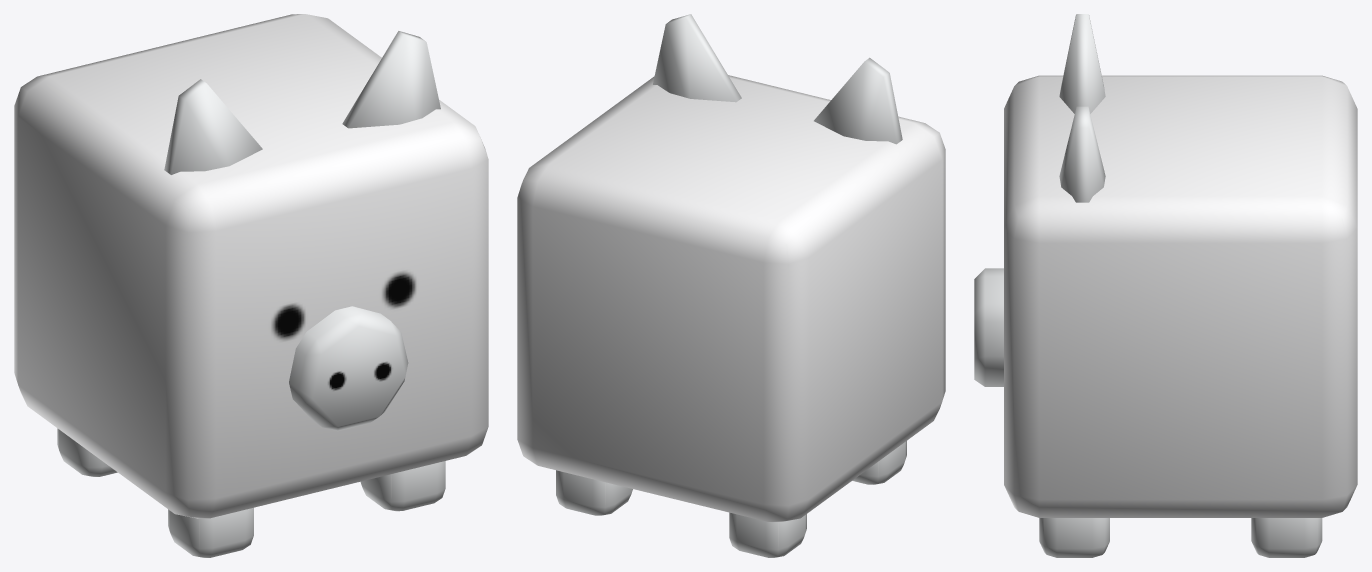
Rendered from pig.fbx.
3 views of the same model, side by side, from view 1: azimuth 30°, elevation 25°; view 2: azimuth 150°, elevation 25°; view 3: azimuth 270°, elevation 25° (orthographic). The views are drawn at different scales.
Visible parts, largest first — view 1: Cube.001; view 2: Cube.001; view 3: Cube.001.
Boxes of the visible parts, x1=… form: Cube.001: x1=14, y1=14, x2=488, y2=557; Cube.001: x1=517, y1=14, x2=945, y2=557; Cube.001: x1=974, y1=14, x2=1357, y2=557.
Size of the model in its own units: 2 by 2.78 by 2.17.
1 material, 1 textured.
